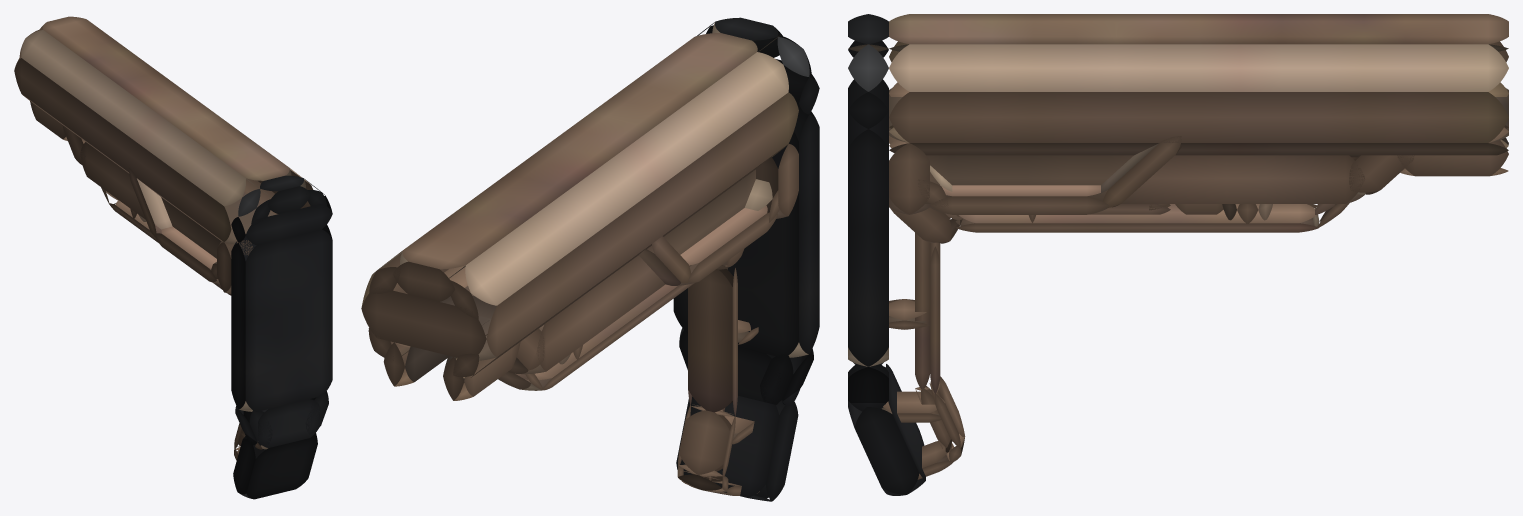
The model's file is udp_9_stock_light.fbx.
The picture shows the model from 3 angles, left to right: view 1: azimuth 30°, elevation 25°; view 2: azimuth 150°, elevation 25°; view 3: azimuth 270°, elevation 25°; orthographic projection. The views are drawn at different scales.
Visible parts, largest first — view 1: cube_4, cube_14, cube_13, cube_35, cube_8, cube_16, cube_6, cube, cube_10, cube_1, cube_15, cube_5 (+7 smaller); view 2: cube_35, cube_13, cube_14, cube_4, cube_16, cube_24, cube_8, cube_10, cube_25, cube_21, cube_18, cube_5 (+14 smaller); view 3: cube_35, cube_11, cube_13, cube_16, cube_4, cube_36, cube_21, cube_8, cube_10, cube_12, cube_17, cube_15 (+13 smaller).
Boxes of the visible parts, bbox=[...] form: cube_4: bbox=[231, 224, 332, 411]; cube_14: bbox=[19, 29, 257, 206]; cube_13: bbox=[39, 16, 289, 180]; cube_35: bbox=[14, 57, 313, 244]; cube_8: bbox=[233, 433, 317, 499]; cube_16: bbox=[80, 142, 220, 258]; cube_6: bbox=[243, 397, 320, 447]; cube: bbox=[231, 195, 332, 245]; cube_10: bbox=[155, 226, 219, 283]; cube_1: bbox=[260, 175, 310, 213]; cube_15: bbox=[128, 168, 172, 237]; cube_5: bbox=[235, 401, 272, 444]; cube_35: bbox=[361, 92, 798, 360]; cube_13: bbox=[393, 33, 757, 301]; cube_14: bbox=[449, 50, 788, 319]; cube_4: bbox=[673, 101, 819, 357]; cube_16: bbox=[521, 169, 755, 374]; cube_24: bbox=[688, 268, 737, 416]; cube_8: bbox=[676, 396, 798, 501]; cube_10: bbox=[677, 205, 777, 285]; cube_25: bbox=[678, 404, 735, 480]; cube_21: bbox=[525, 283, 694, 390]; cube_18: bbox=[443, 323, 520, 400]; cube_5: bbox=[760, 342, 813, 404]; cube_35: bbox=[889, 41, 1508, 142]; cube_11: bbox=[889, 44, 1508, 91]; cube_13: bbox=[889, 14, 1508, 44]; cube_16: bbox=[889, 136, 1364, 203]; cube_4: bbox=[848, 79, 888, 366]; cube_36: bbox=[889, 125, 1508, 157]; cube_21: bbox=[955, 204, 1318, 232]; cube_8: bbox=[848, 364, 925, 495]; cube_10: bbox=[930, 185, 1108, 214]; cube_12: bbox=[889, 143, 929, 214]; cube_17: bbox=[1397, 137, 1508, 176]; cube_15: bbox=[1097, 136, 1181, 208].
Size of the model in its own units: 10.94 by 37.95 by 50.39.
Materials: 1 (1 with a texture image).
